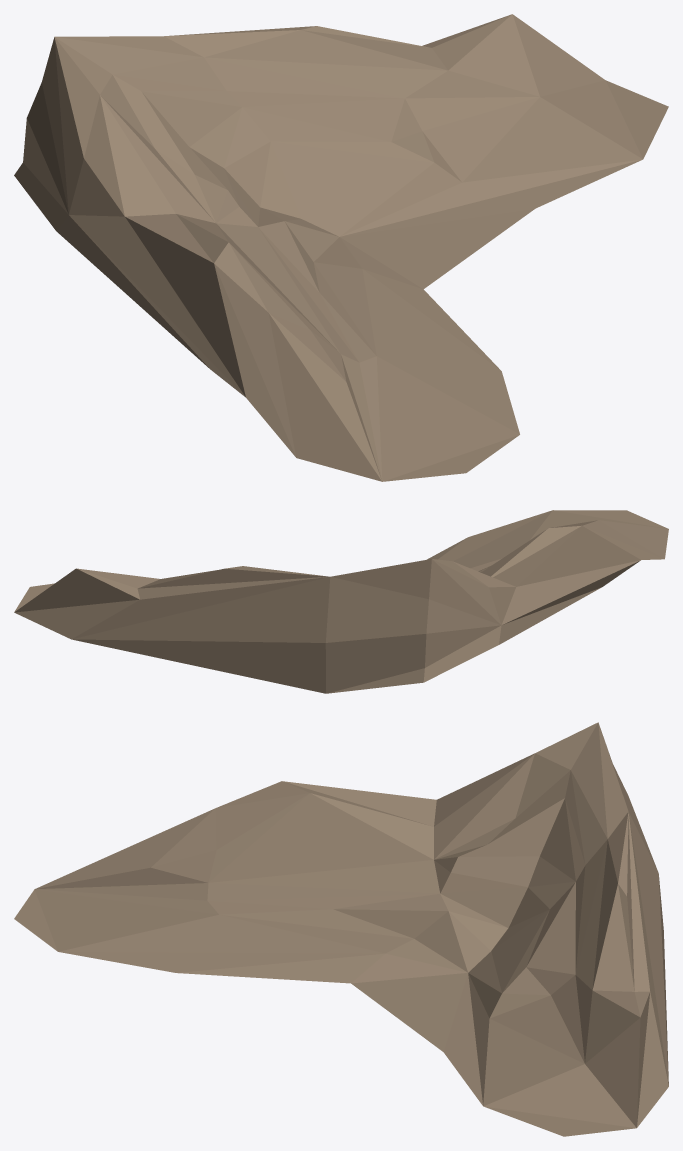
The model's file is SM_Env_GroundMound_Corner_01.FBX.
The picture shows the model from 3 angles, top to bottom: view 1: azimuth 30°, elevation 25°; view 2: azimuth 150°, elevation 25°; view 3: azimuth 270°, elevation 25°; orthographic projection. The views are drawn at different scales.
Visible parts, largest first — view 1: SM_Env_GroundMound_Corner_01; view 2: SM_Env_GroundMound_Corner_01; view 3: SM_Env_GroundMound_Corner_01.
Part boxes in pixels (box(x1,y1,x2,y2)): SM_Env_GroundMound_Corner_01: box(14, 14, 668, 481); SM_Env_GroundMound_Corner_01: box(14, 510, 668, 693); SM_Env_GroundMound_Corner_01: box(14, 722, 668, 1136).
Size of what is drawn, in the model's own units: 494 by 511 by 146.
